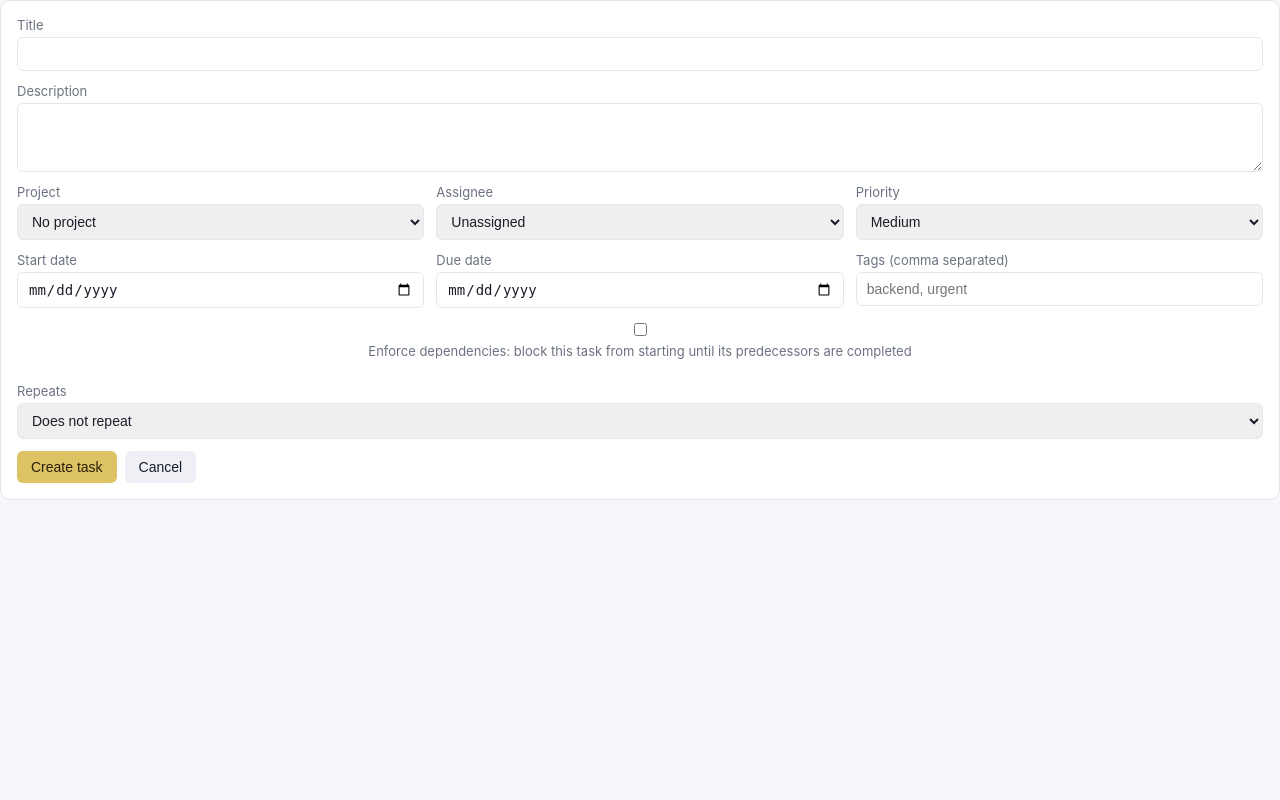
Test: TaskForm › shows a server validation error inline
The width and height of the screenshot is (1280, 800).
Type "x" into the field labelled "Title" at (640,54), box [17,37,1263,71]
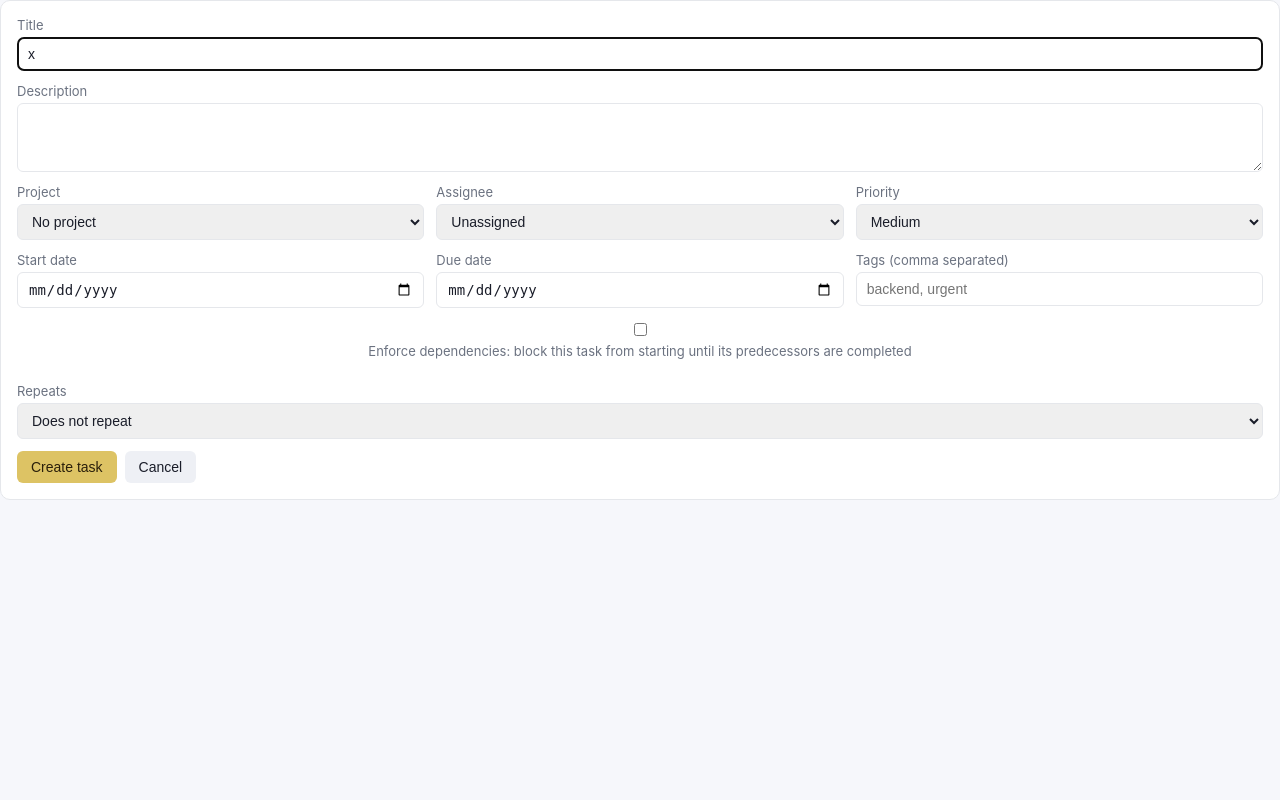
Click the button "Create task" at (67,467), box [17,451,117,483]
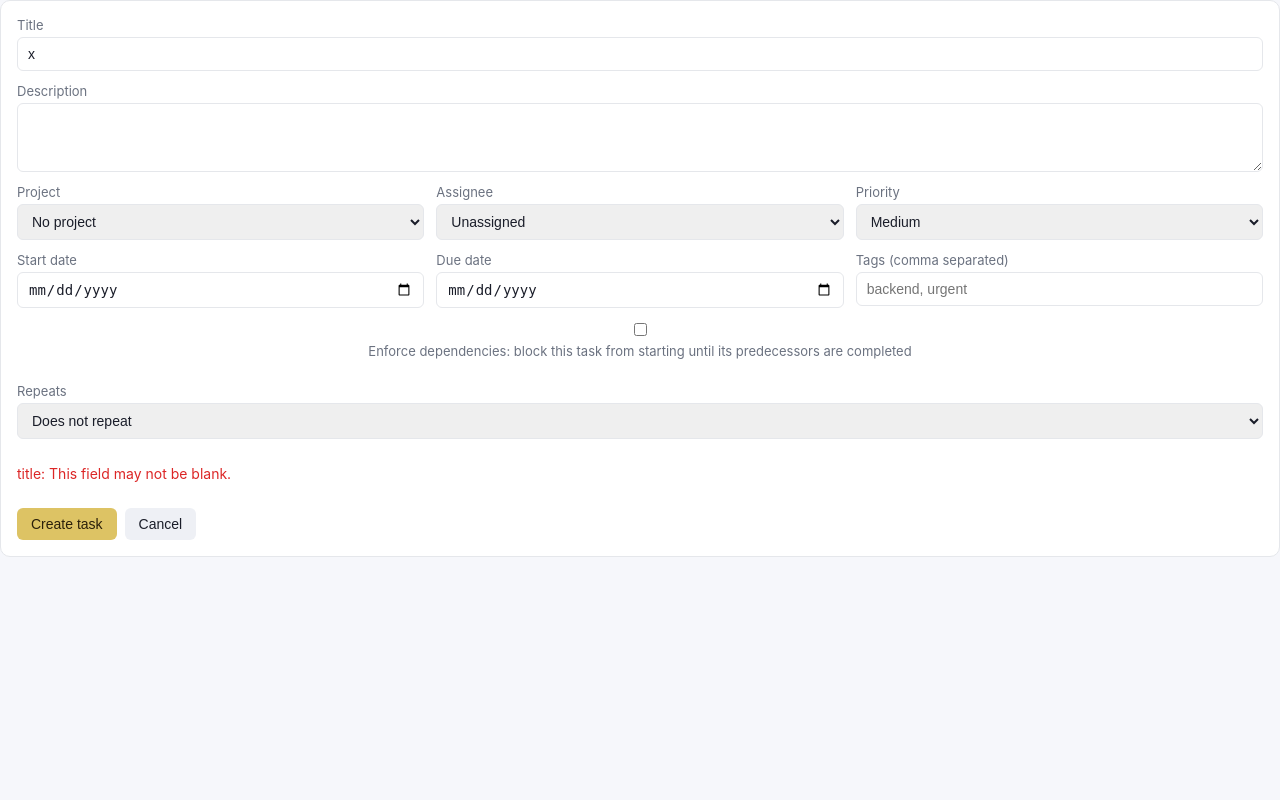
Now the text "title: This field may not be blank." is shown, box [17,465,231,482]
